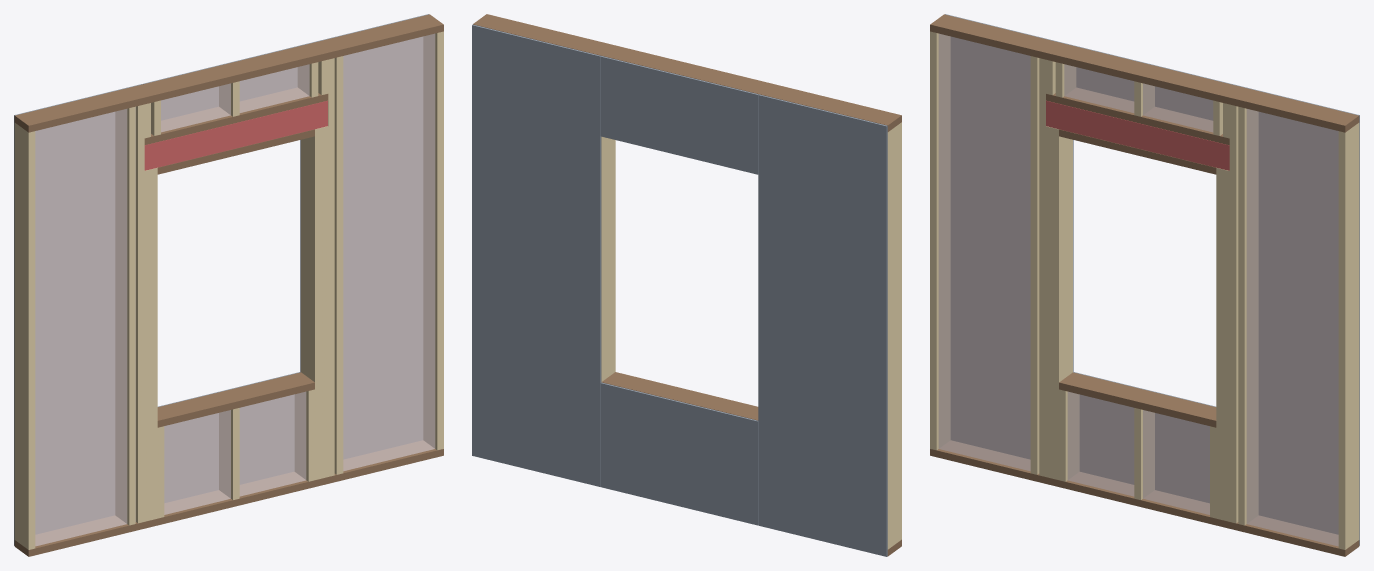
3 renders of one model, left to right at view 1: azimuth 30°, elevation 25°; view 2: azimuth 150°, elevation 25°; view 3: azimuth 330°, elevation 25°, orthographic.
Parts seen in each view (by area): view 1: EX20 FF; view 2: EX20 FF; view 3: EX20 FF.
Part boxes in pixels (x1,y1,x2,y2): EX20 FF: (14, 14, 443, 556); EX20 FF: (472, 14, 901, 556); EX20 FF: (930, 14, 1359, 556).
Size of the model in its own units: 2.4 by 2.38 by 0.149.
